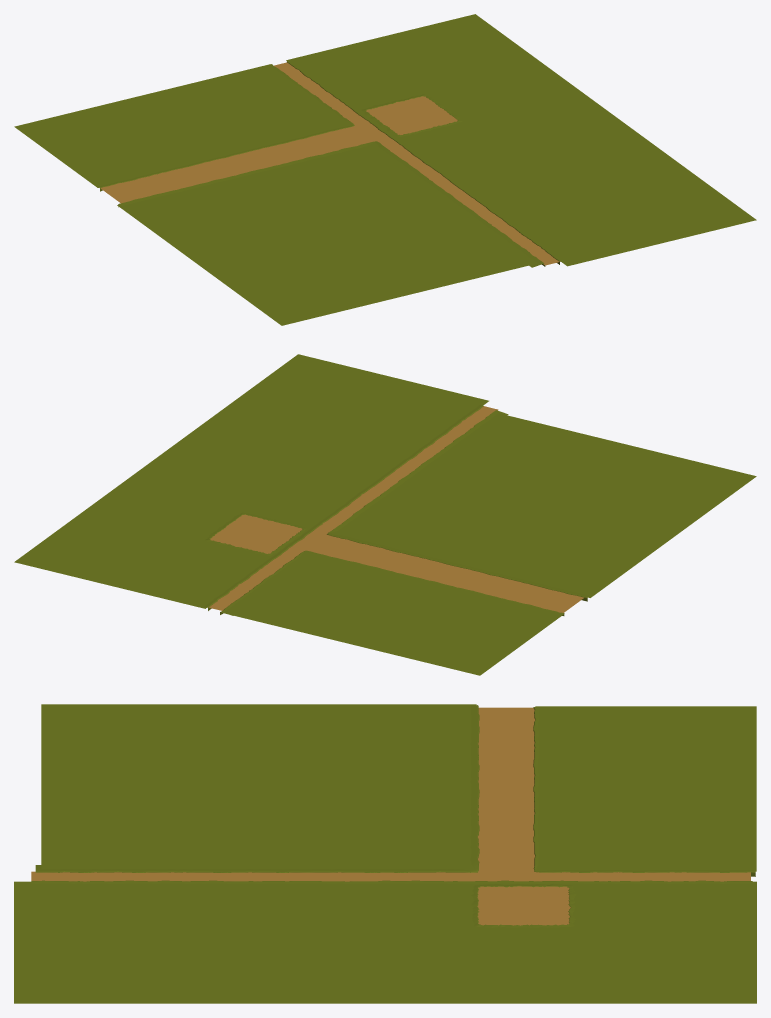
Rendered from mesh_farmenvironment.fbx.
3 views of the same model, one above another, from view 1: azimuth 30°, elevation 25°; view 2: azimuth 150°, elevation 25°; view 3: azimuth 270°, elevation 25° (orthographic). The views are drawn at different scales.
Parts seen in each view (by area): view 1: mesh_farmenvironment; view 2: mesh_farmenvironment; view 3: mesh_farmenvironment.
Part boxes in pixels (x1,y1,x2,y2): mesh_farmenvironment: (14, 14, 756, 325); mesh_farmenvironment: (14, 354, 756, 675); mesh_farmenvironment: (14, 704, 756, 1003).
Size of the model in its own units: 58.34 by 0.4522 by 61.21.
